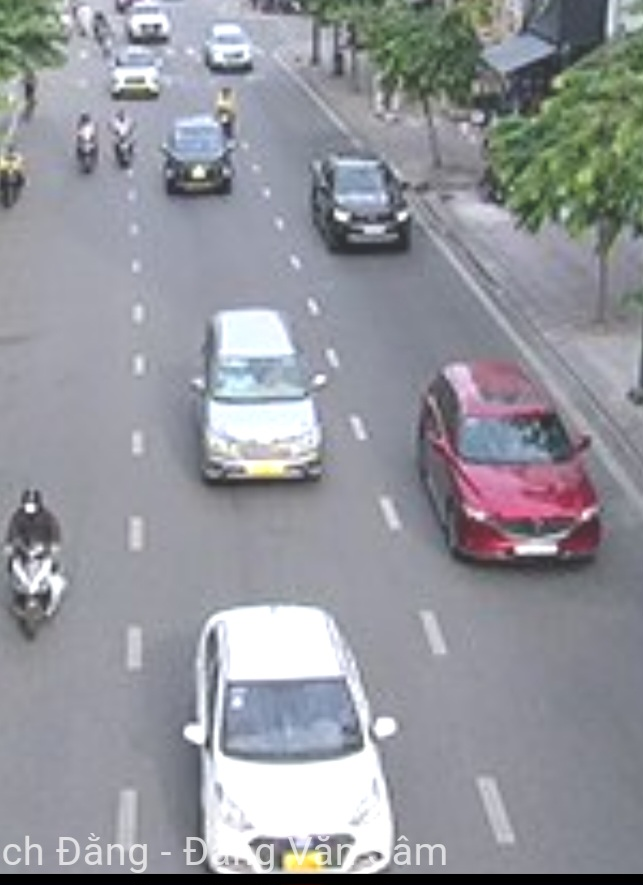car: (189, 603, 395, 867), (412, 357, 605, 569), (197, 306, 324, 486), (309, 145, 413, 255), (163, 116, 235, 196), (109, 46, 163, 101), (208, 22, 254, 74)
